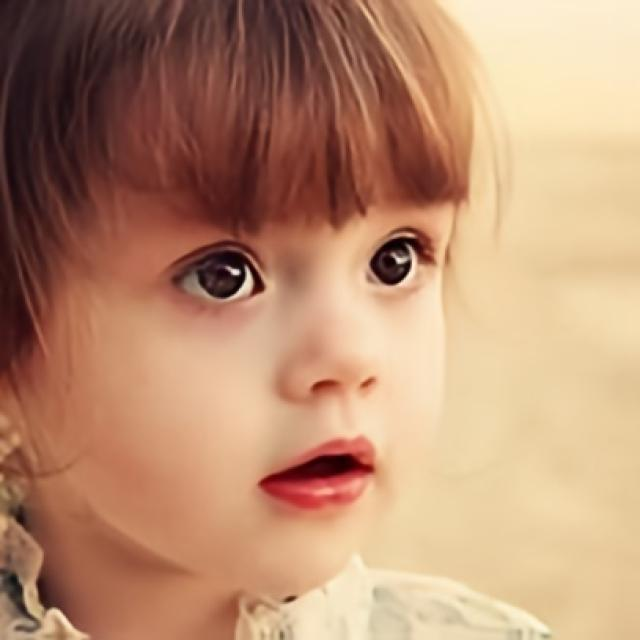surprise: (0, 42, 458, 601)
